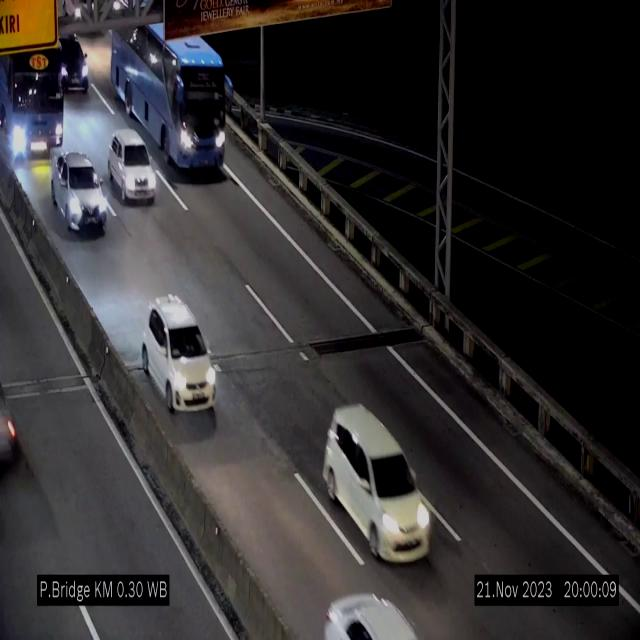Bus: (107, 28, 233, 172), (0, 28, 65, 175)
Car: (323, 406, 431, 560), (142, 296, 216, 414), (313, 574, 419, 640), (52, 149, 108, 232), (108, 130, 156, 202), (58, 25, 91, 100)
